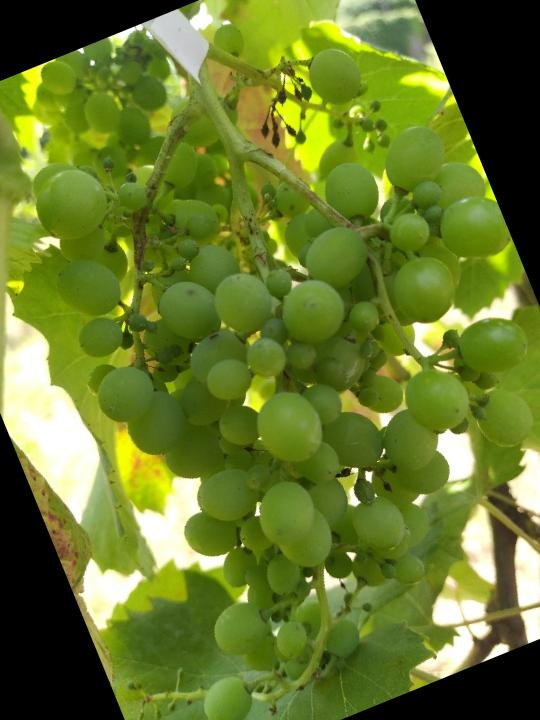grape: (0, 12, 540, 720)
